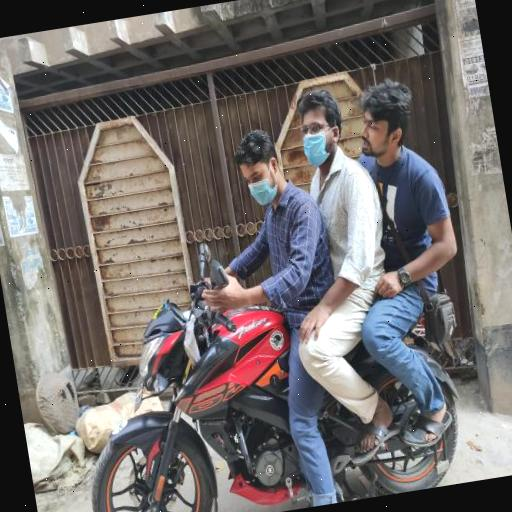no helmet: (198, 113, 316, 240)
triple riding: (39, 62, 486, 512)
